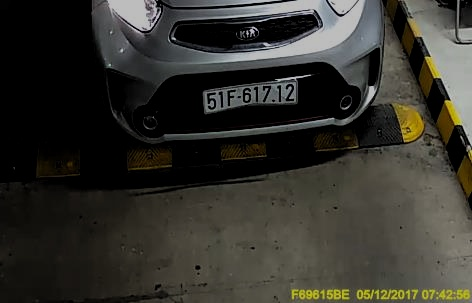plate: (197, 80, 299, 113)
